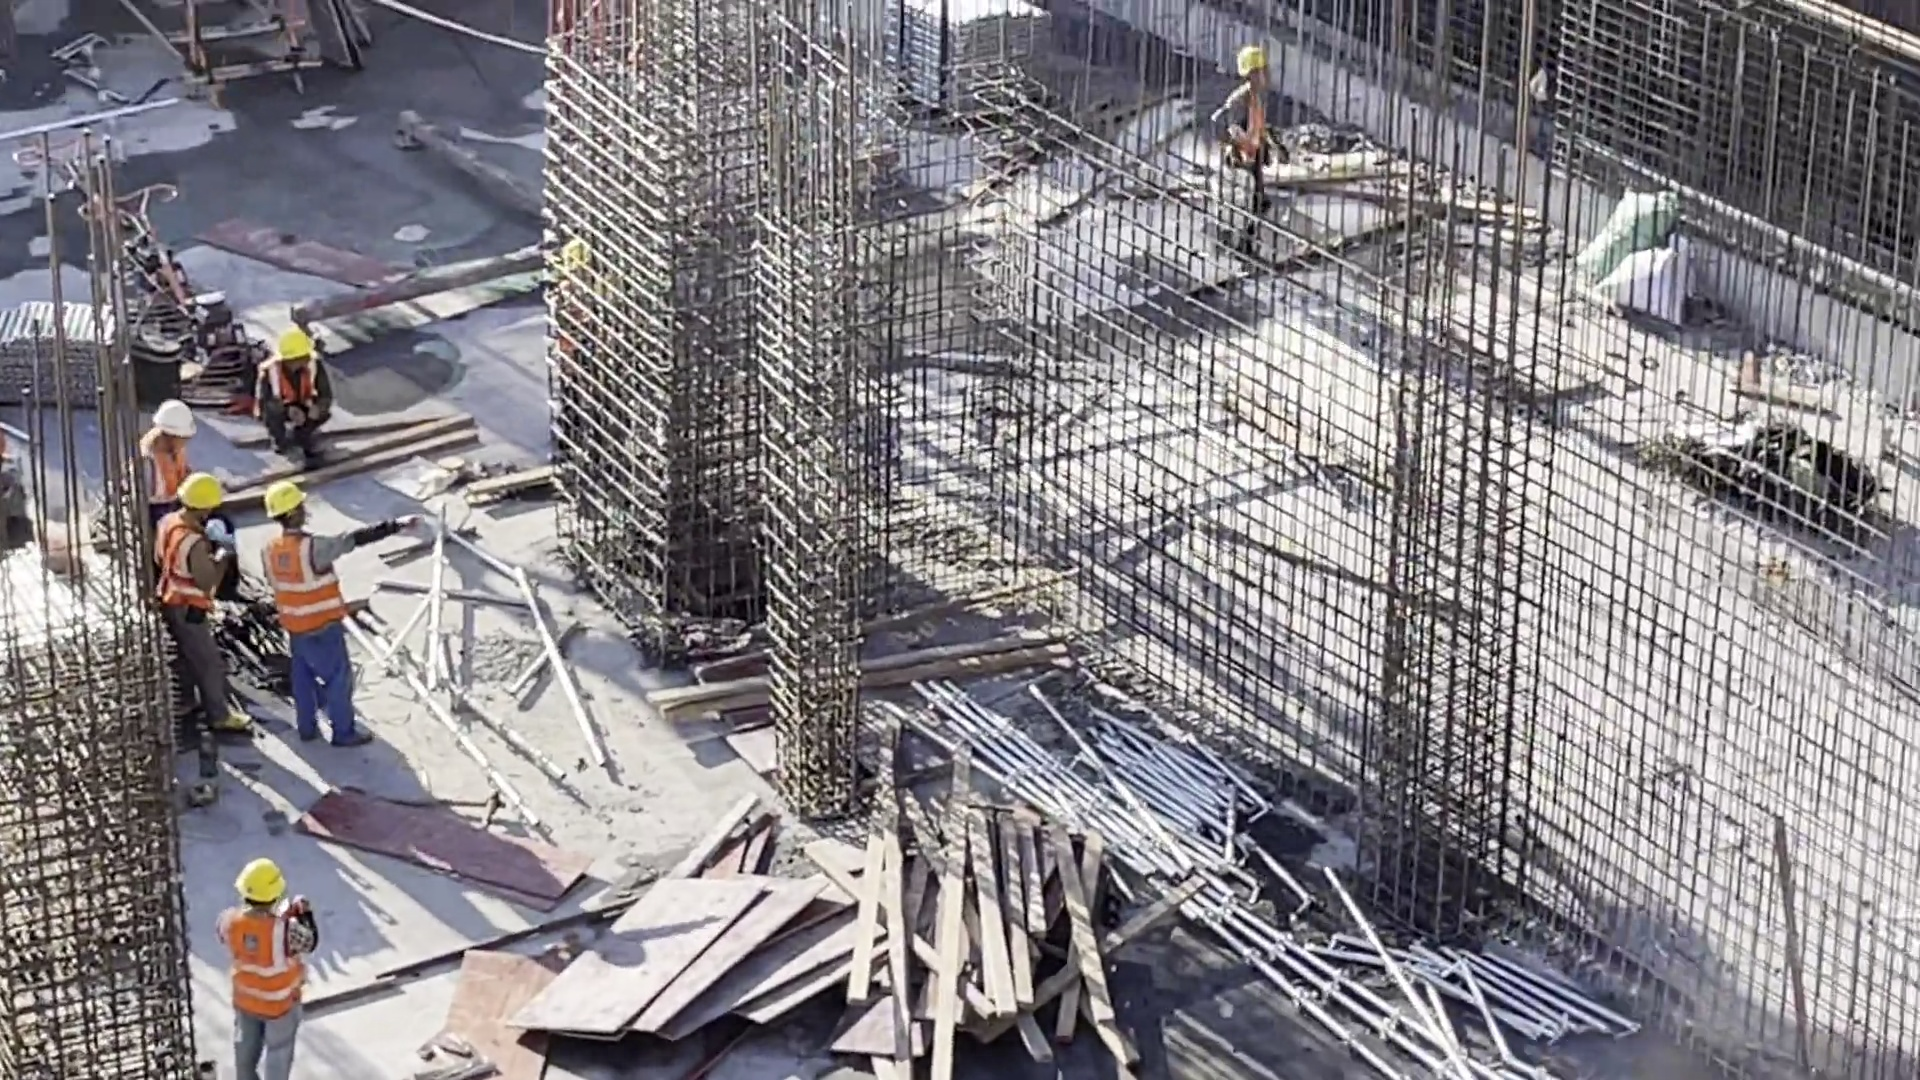board: (520, 874, 840, 1043)
helmet: (256, 479, 321, 520), (236, 858, 293, 900), (155, 397, 201, 446), (181, 469, 233, 509), (269, 331, 321, 352), (1243, 42, 1273, 69)
person: (256, 482, 408, 797), (207, 856, 317, 1080), (148, 474, 243, 730), (1218, 45, 1282, 231), (243, 330, 336, 453), (140, 404, 197, 504)
scaffold: (1029, 680, 1492, 1066), (890, 3, 1049, 136), (1, 301, 150, 418)
vest: (214, 911, 317, 1016), (254, 530, 338, 635), (148, 509, 222, 604), (119, 434, 184, 509), (1230, 87, 1285, 167), (262, 363, 329, 417)
wood: (852, 741, 1132, 1080)
